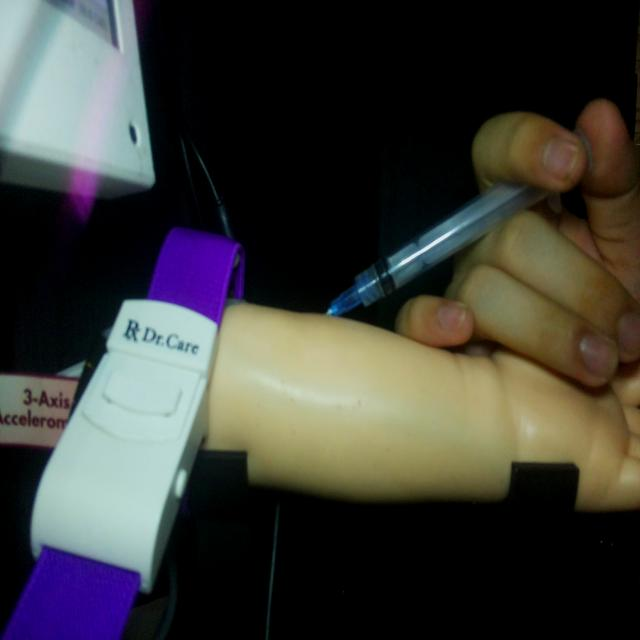26 degrees: (327, 126, 594, 317)
